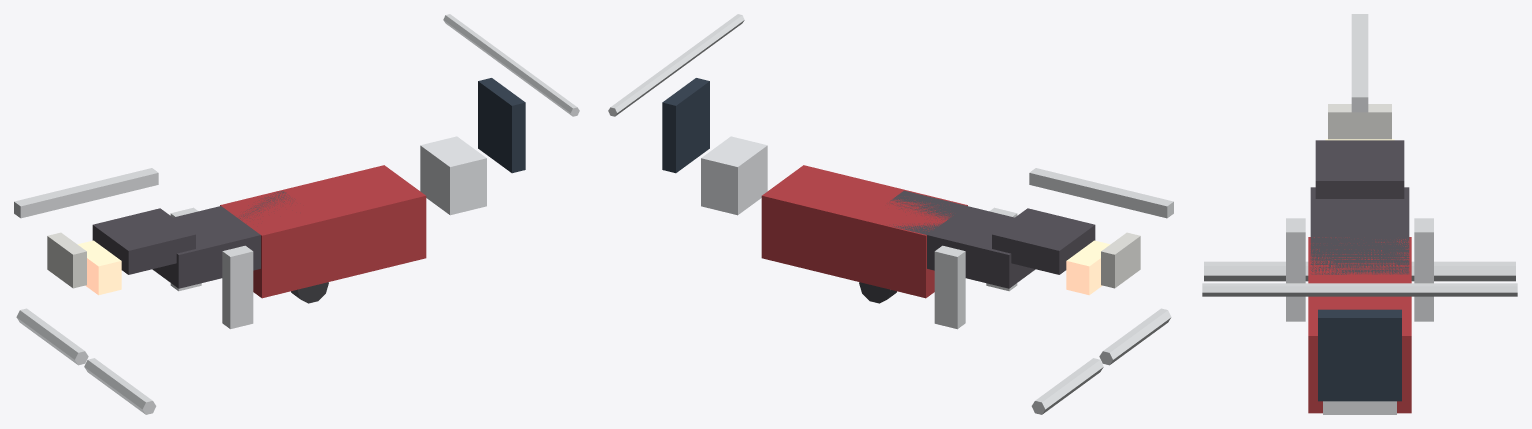
The model's file is SM_Veh_Motorcycle.fbx.
The picture shows the model from 3 angles, left to right: view 1: azimuth 30°, elevation 25°; view 2: azimuth 150°, elevation 25°; view 3: azimuth 270°, elevation 25°; orthographic projection. The views are drawn at different scales.
Parts seen in each view (by area): view 1: SM_Veh_Motorcycle; view 2: SM_Veh_Motorcycle; view 3: SM_Veh_Motorcycle.
Part boxes in pixels (x1,y1,x2,y2): SM_Veh_Motorcycle: (14, 14, 579, 414); SM_Veh_Motorcycle: (608, 14, 1173, 414); SM_Veh_Motorcycle: (1202, 14, 1517, 414).
Size of the model in its own units: 217 by 96 by 84.33.
